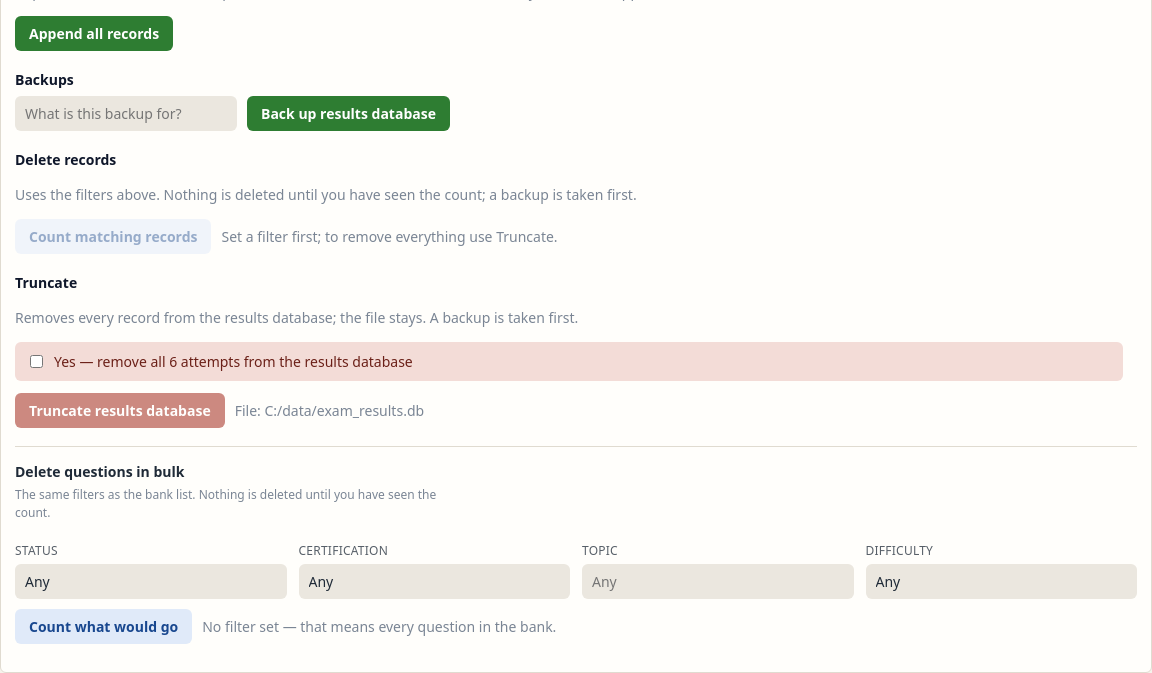
Test case: counting before deleting › says plainly when nothing matches
(page scrolled)
Click the button "Count what would go" at (104, 626), box [15,609,192,644]
(page scrolled)
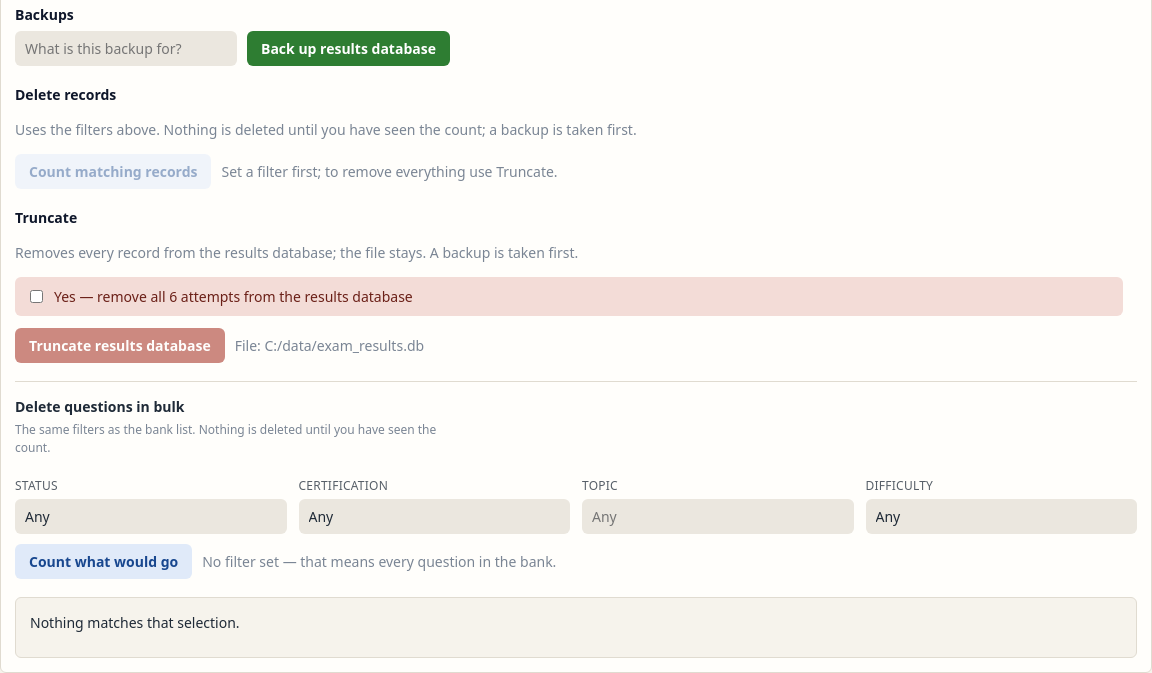
Expected: the text "Nothing matches that selection." is shown, [30,613,240,632]
